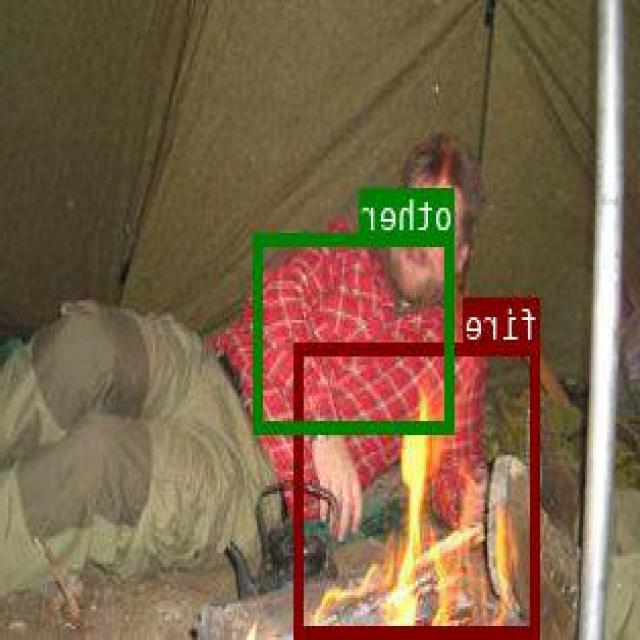fire: (298, 342, 540, 634)
other: (255, 230, 456, 430)
